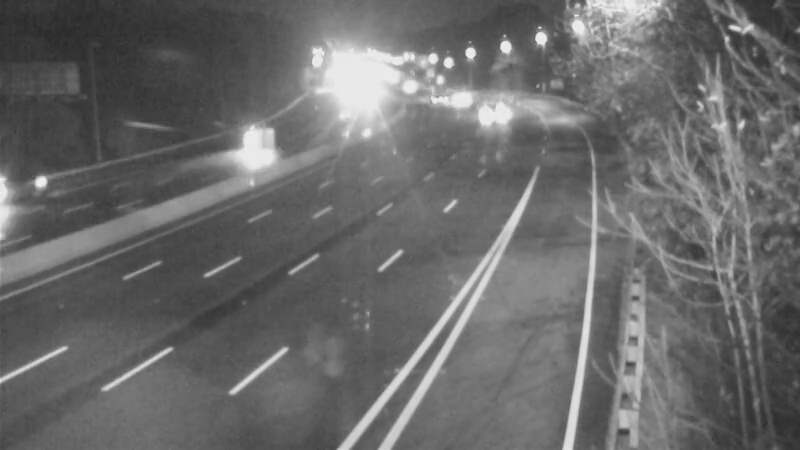vehicle: (1, 146, 70, 226), (432, 74, 482, 124), (467, 80, 517, 130), (225, 117, 275, 167)
